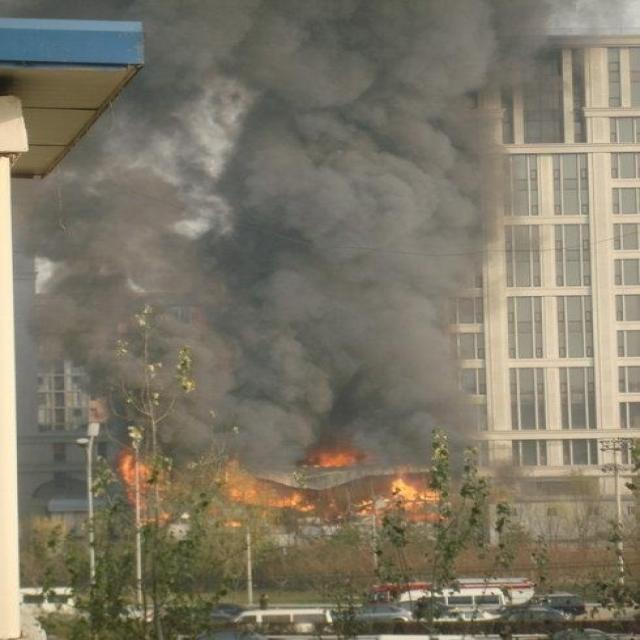Fire: (356, 476, 442, 516), (120, 454, 149, 501), (269, 489, 316, 512), (314, 453, 356, 466)
Smoke: (31, 1, 636, 481)
